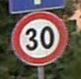limite 30: (9, 10, 67, 66)
